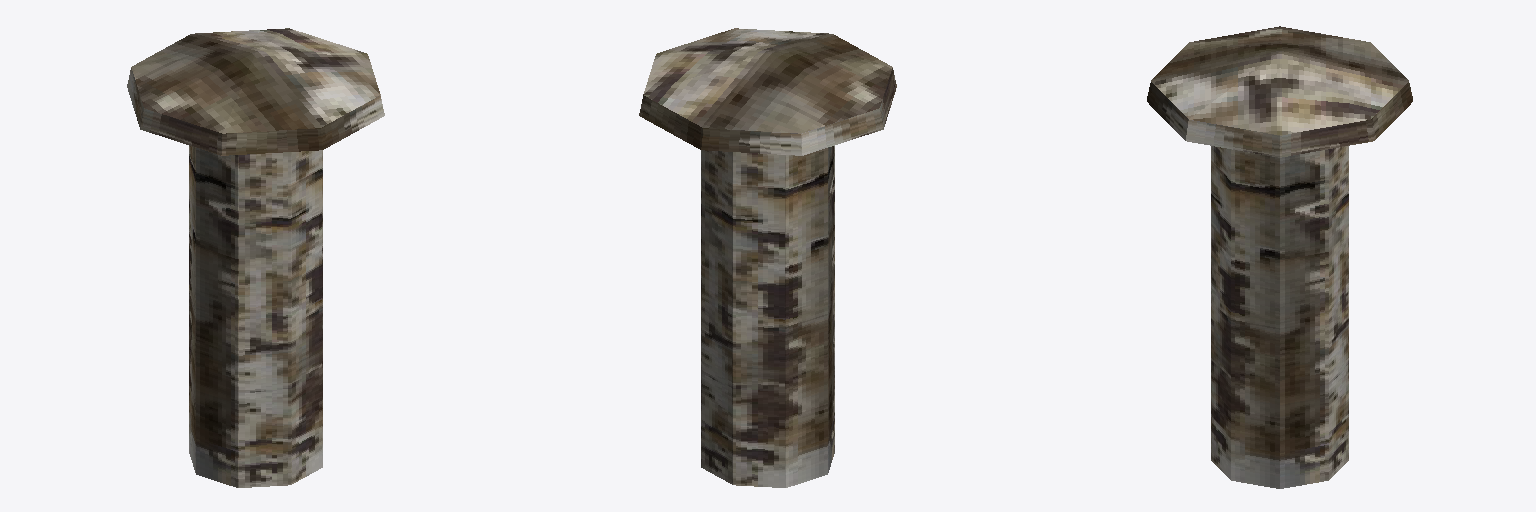
3 renders of one model, left to right at view 1: azimuth 30°, elevation 25°; view 2: azimuth 150°, elevation 25°; view 3: azimuth 270°, elevation 25°, orthographic.
Visible parts, largest first — view 1: airExhaust_1; view 2: airExhaust_1; view 3: airExhaust_1.
Boxes of the visible parts, x1=… form: airExhaust_1: x1=127, y1=28, x2=384, y2=487; airExhaust_1: x1=639, y1=28, x2=896, y2=487; airExhaust_1: x1=1147, y1=26, x2=1412, y2=488.
Bounding box in the file's own units: 0.1964 × 0.331 × 0.1964.
Materials: 1 (1 with a texture image).